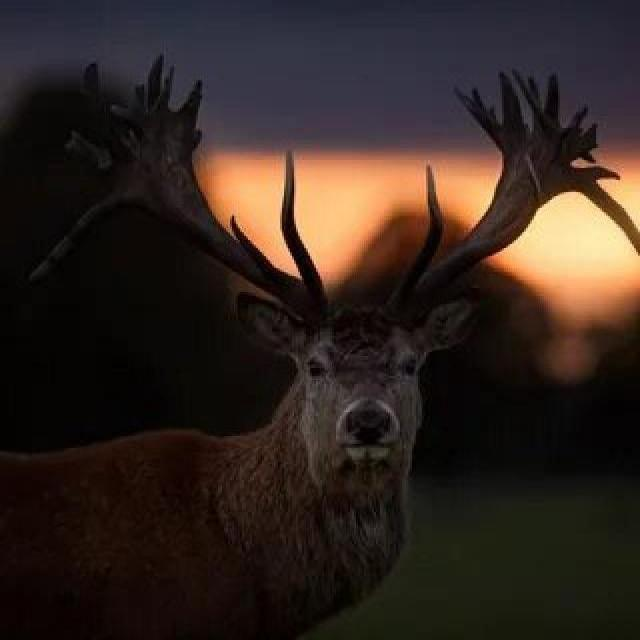deer: (0, 57, 586, 612)
